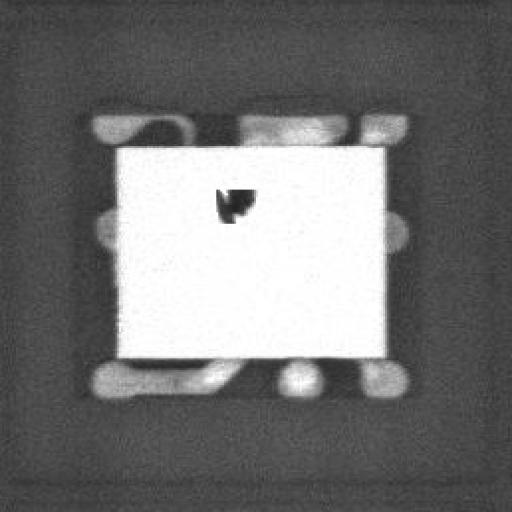DIE_INK: (205, 197, 243, 230)
